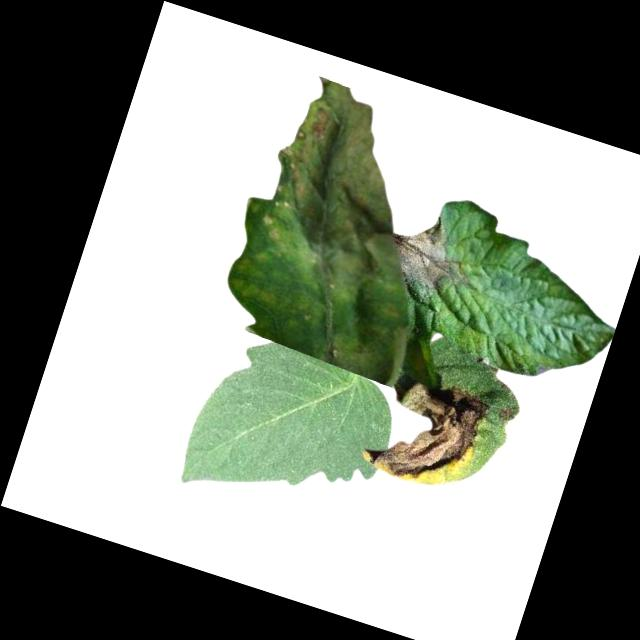Late_blight: (208, 67, 474, 381), (358, 365, 496, 498), (380, 200, 496, 307), (497, 401, 518, 424)
healthy: (175, 327, 405, 538)
